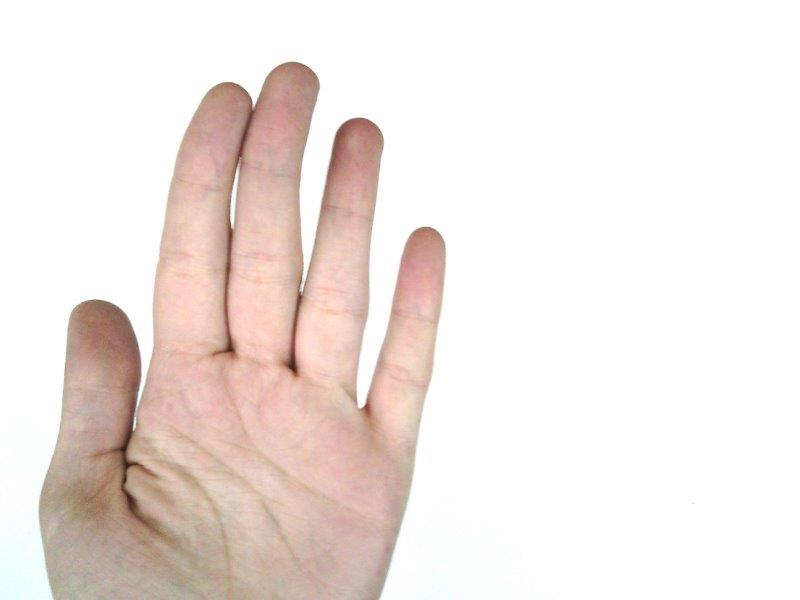hand: (38, 62, 446, 600)
